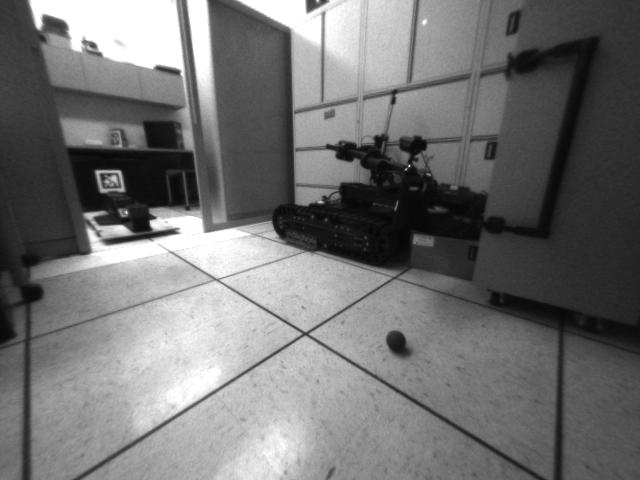dogtoy: (381, 323, 415, 362)
